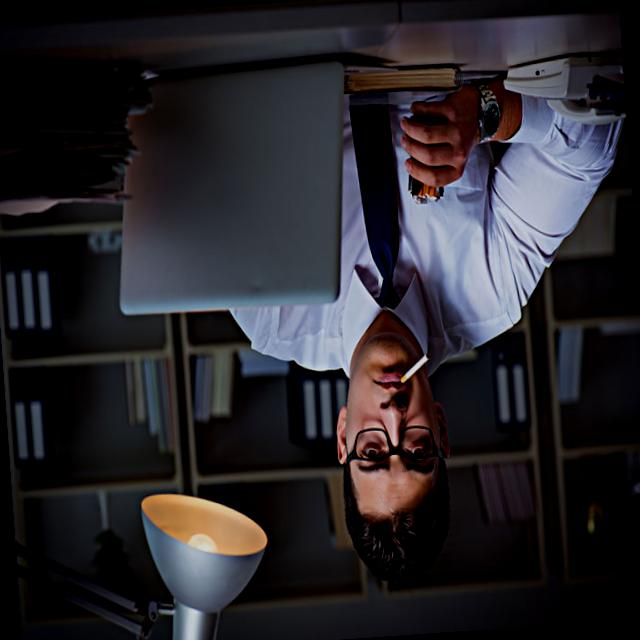smoke: (399, 348, 434, 384)
